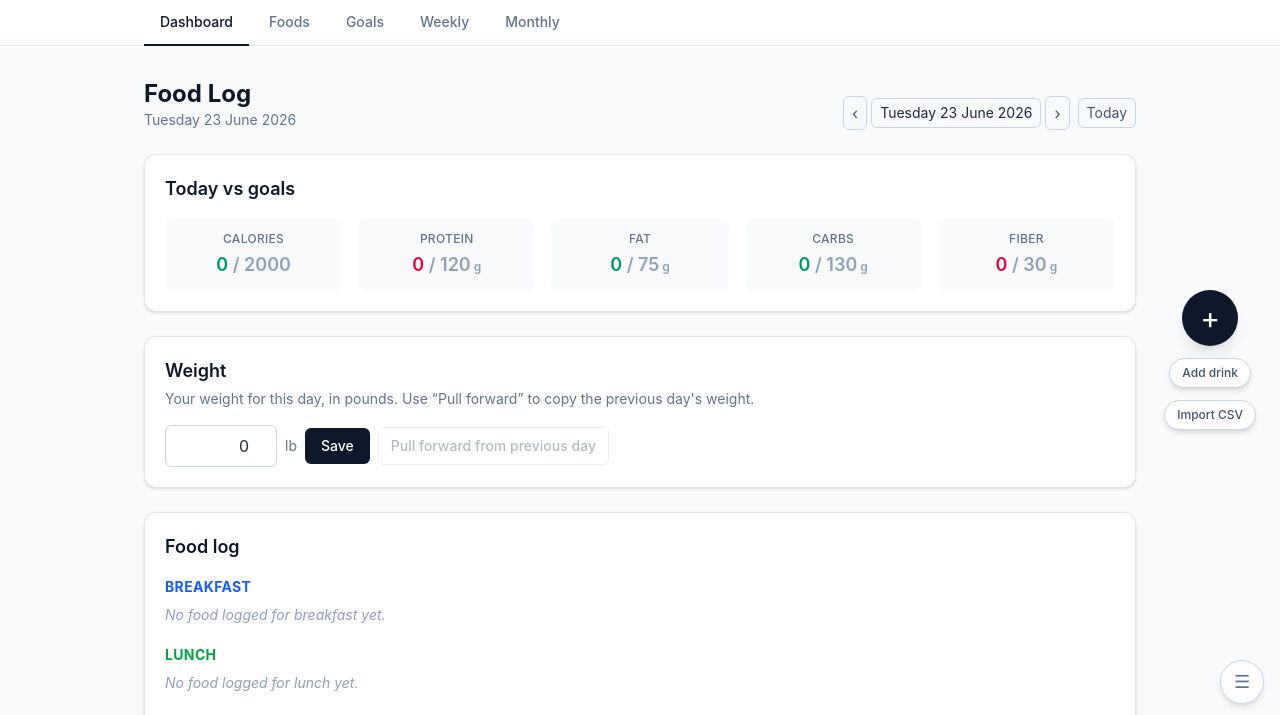
Test: App tab navigation › selecting a food returns to the Dashboard with a pre-filled modal
The width and height of the screenshot is (1280, 715).
Click the tab "Foods": [289, 23] box [253,0,326,46]
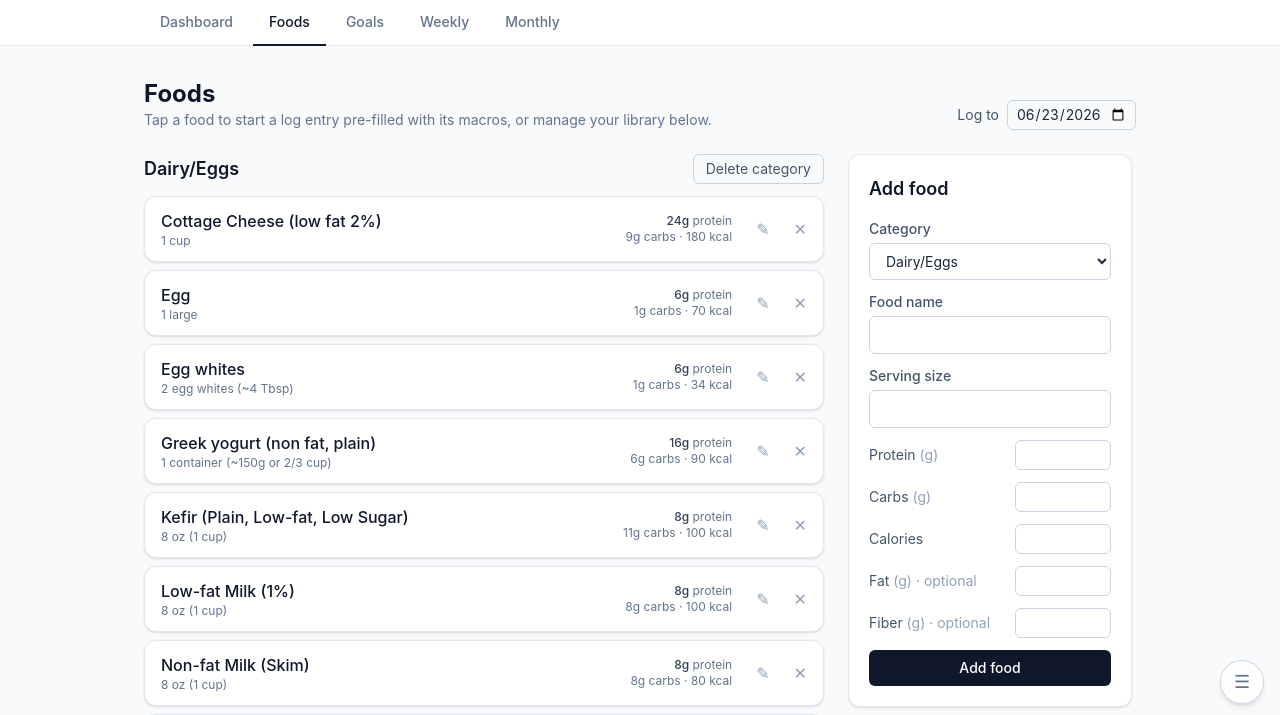
Click the button "Egg": [179, 314] box [153,275,740,331]
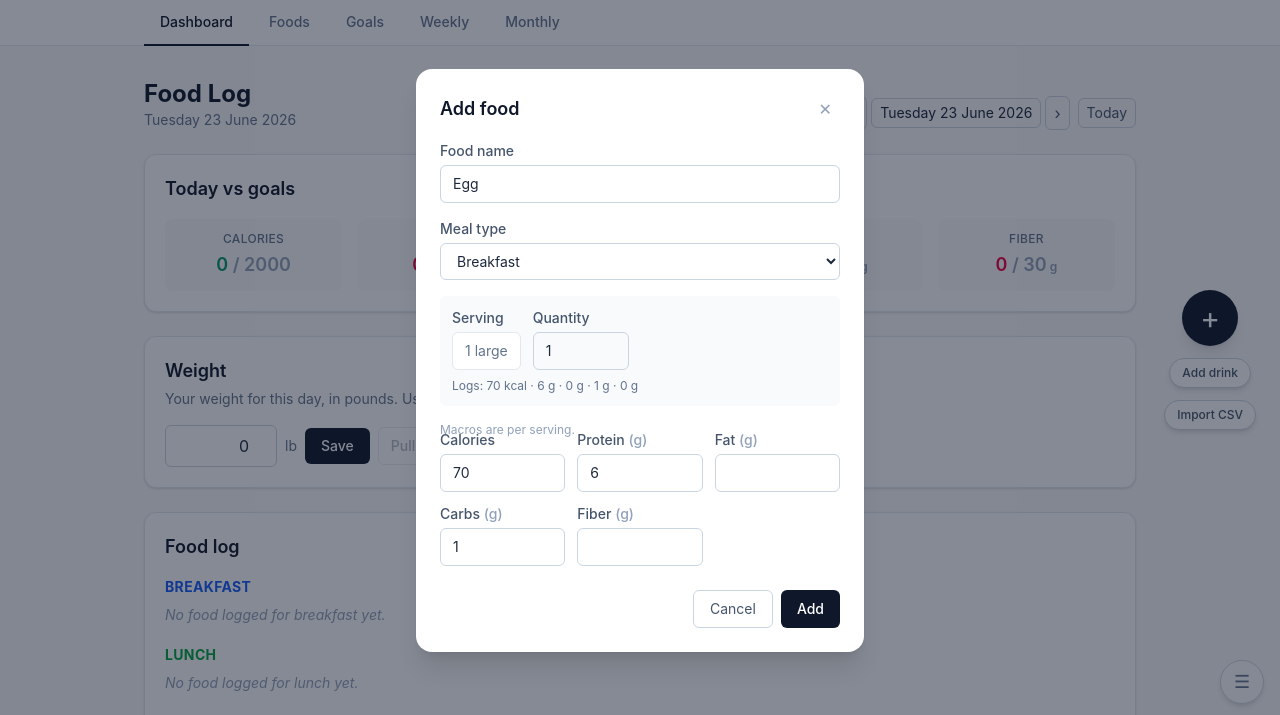
Check: the field labelled "Food name" holds "Egg", box [440,164,840,202]
Check: the number field labelled "Protein" holds "6", box [577,454,703,492]
Check: the number field labelled "Calories" holds "70", box [440,454,565,492]
// Submitting adds the entry to the Dashboard feed.
Click the button "Add": [810, 608] box [781,590,840,628]
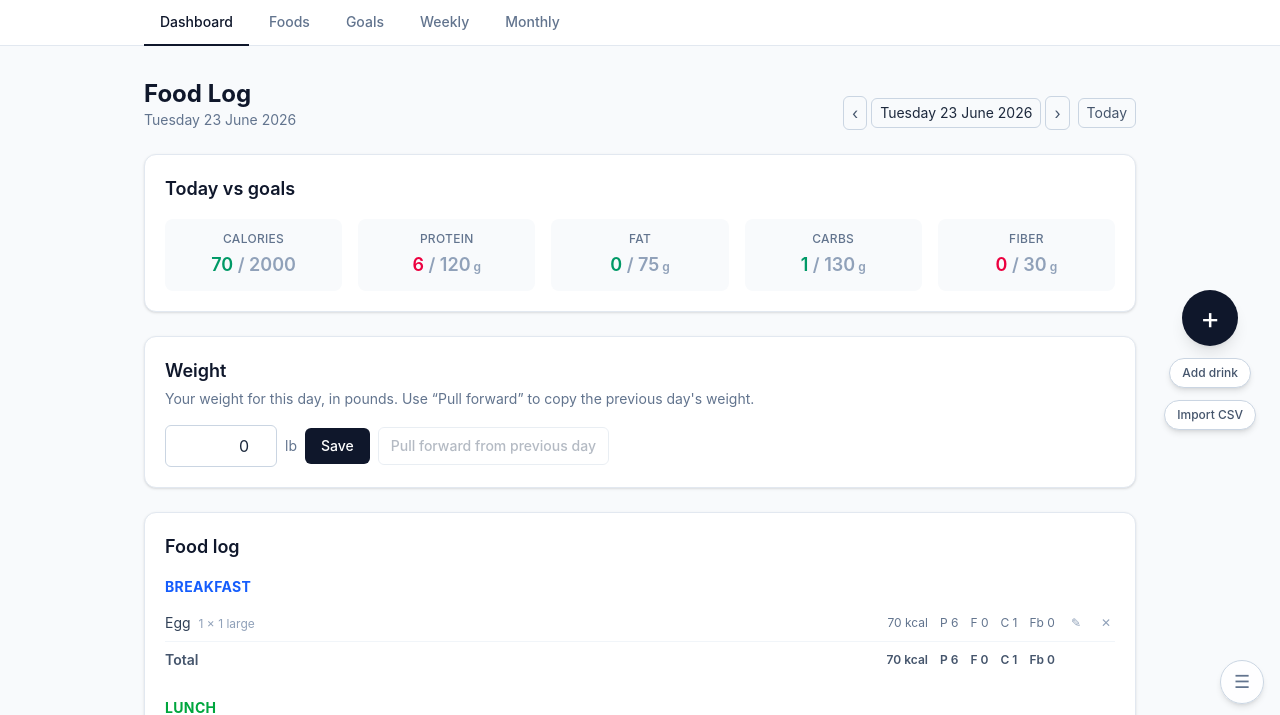
Check: the text "Egg" is shown, box [165,614,191,631]
